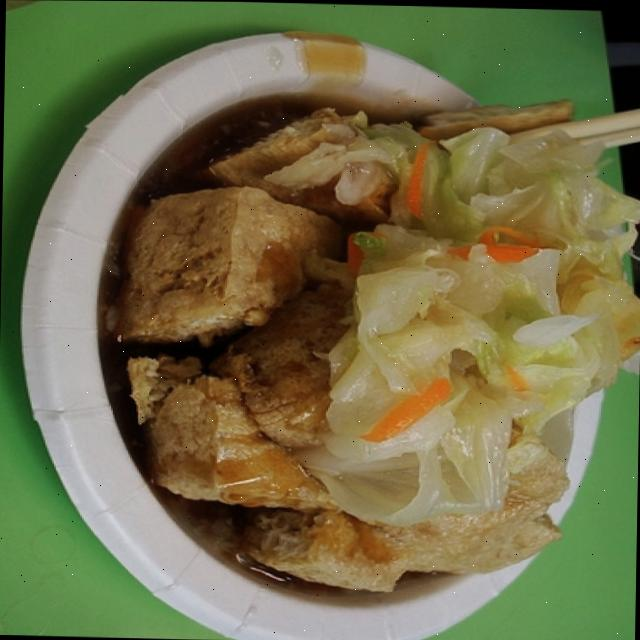豆腐料理: (23, 33, 640, 640)
